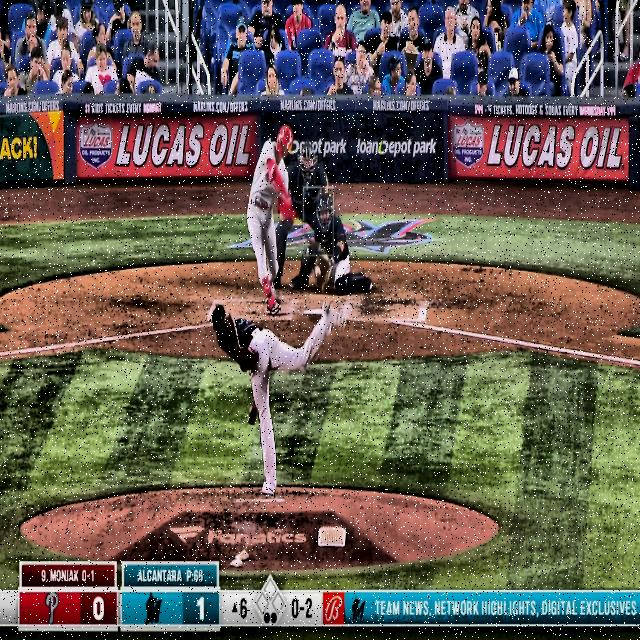baseball: (315, 266, 321, 278)
